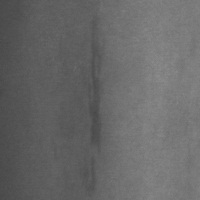inclusion: (81, 1, 106, 158), (80, 145, 98, 198)
